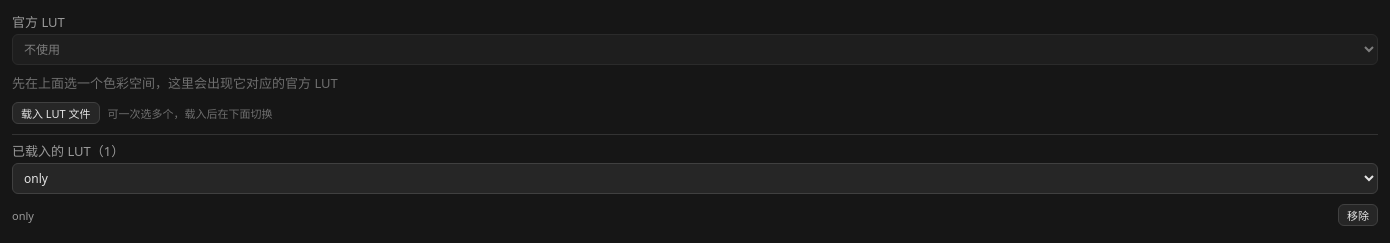
it: LutPanel › 载入 LUT 文件 › hides the dropdown again once the library is empty
The width and height of the screenshot is (1390, 243).
Click the button "移除": (1358, 215) [1338,204,1378,226]
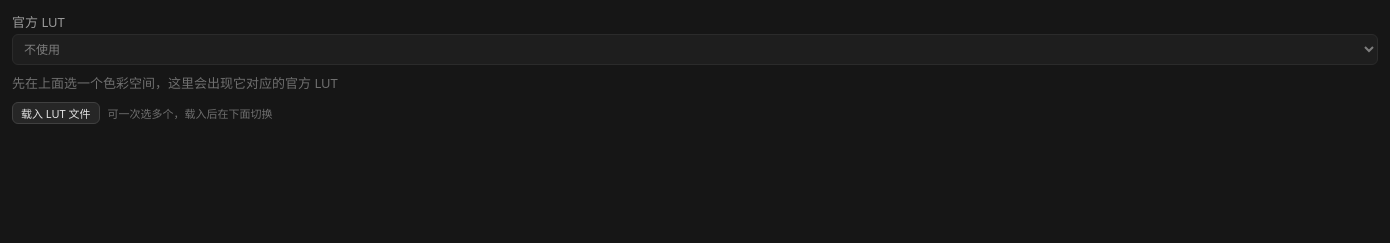
Now the text "已载入的 LUT" is gone
